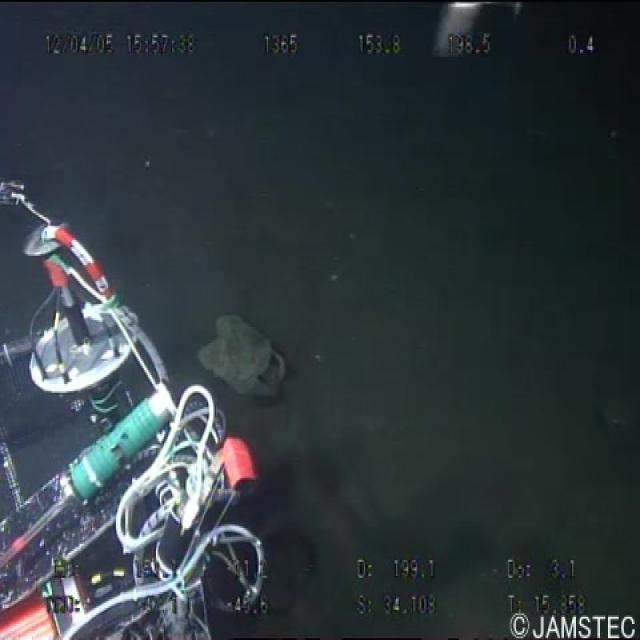plastic: (195, 307, 288, 409)
